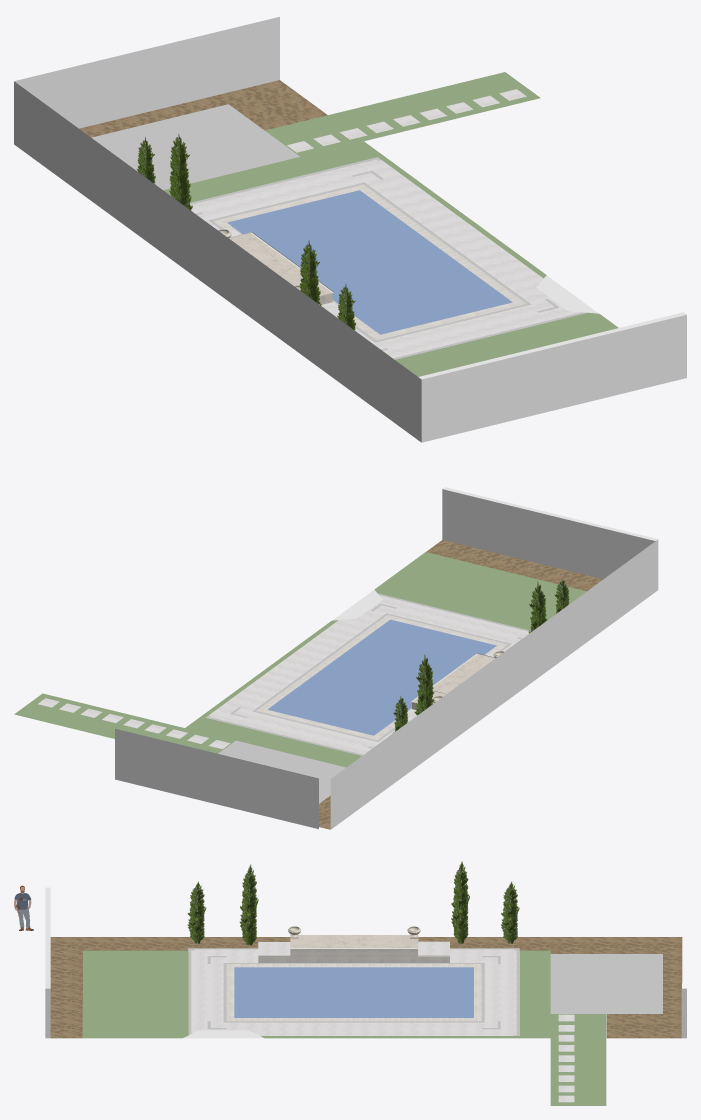
The model's file is pool-showcase.glb.
3 renders of one model, top to bottom at view 1: azimuth 30°, elevation 25°; view 2: azimuth 150°, elevation 25°; view 3: azimuth 270°, elevation 25°, orthographic. The views are drawn at different scales.
Parts seen in each view (by area): view 1: Mesh1858 Model; view 2: Mesh1858 Model; view 3: Mesh1858 Model, Mesh1 Ty Model.
Part boxes in pixels (x1,y1,x2,y2): Mesh1858 Model: [14, 17, 686, 442]; Mesh1858 Model: [14, 487, 658, 829]; Mesh1858 Model: [45, 887, 686, 1105]; Mesh1 Ty Model: [14, 885, 33, 930].
Bounding box in the file's own units: 622 × 155 × 1011.
Materials: 21 (7 with a texture image).
